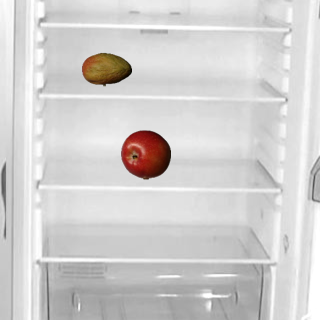Apple Braeburn: (120, 129, 170, 179)
Papaya: (81, 44, 131, 94)
